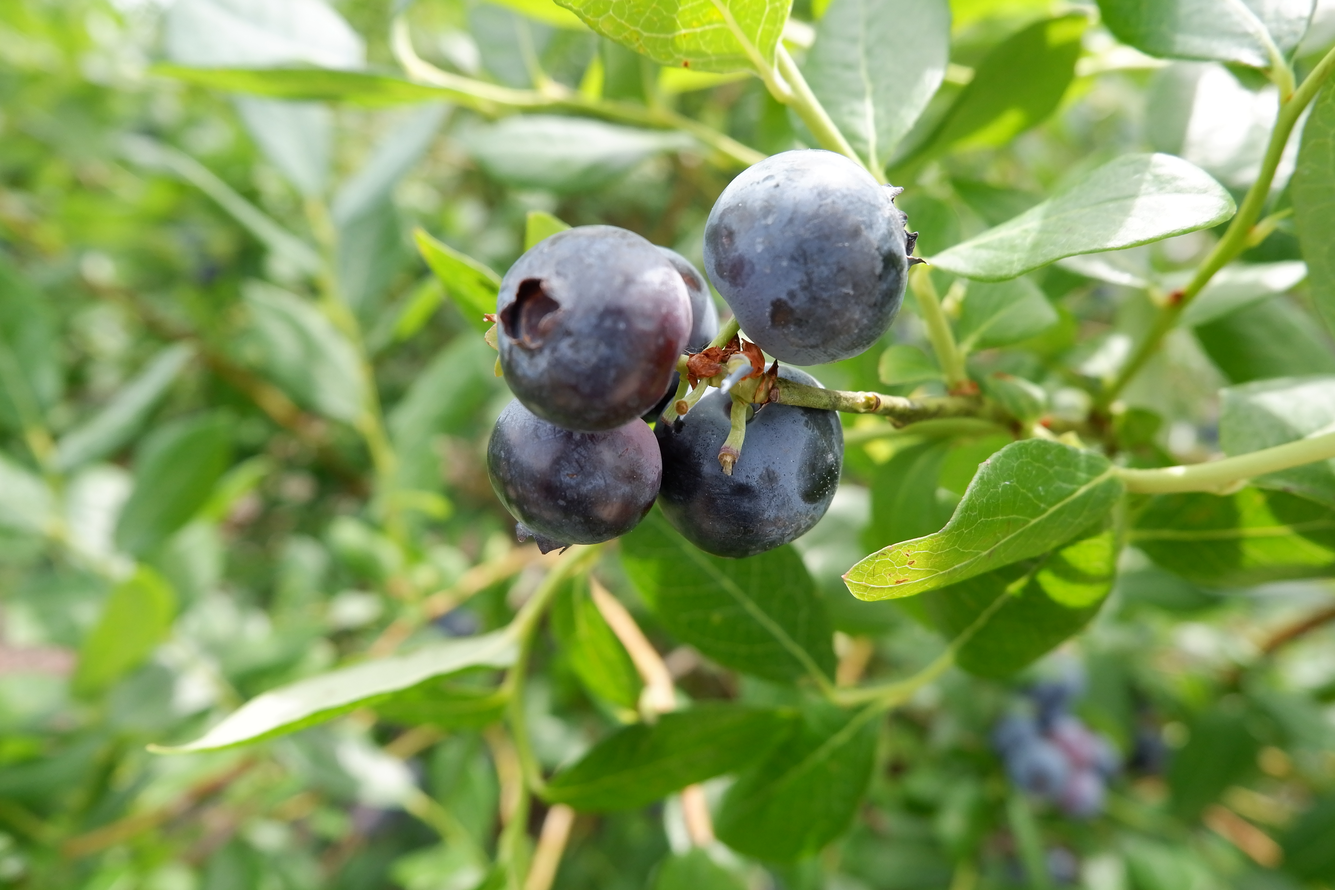Mature: (708, 154, 915, 357), (495, 227, 693, 429), (660, 371, 843, 553), (487, 401, 659, 556), (644, 249, 720, 422)
